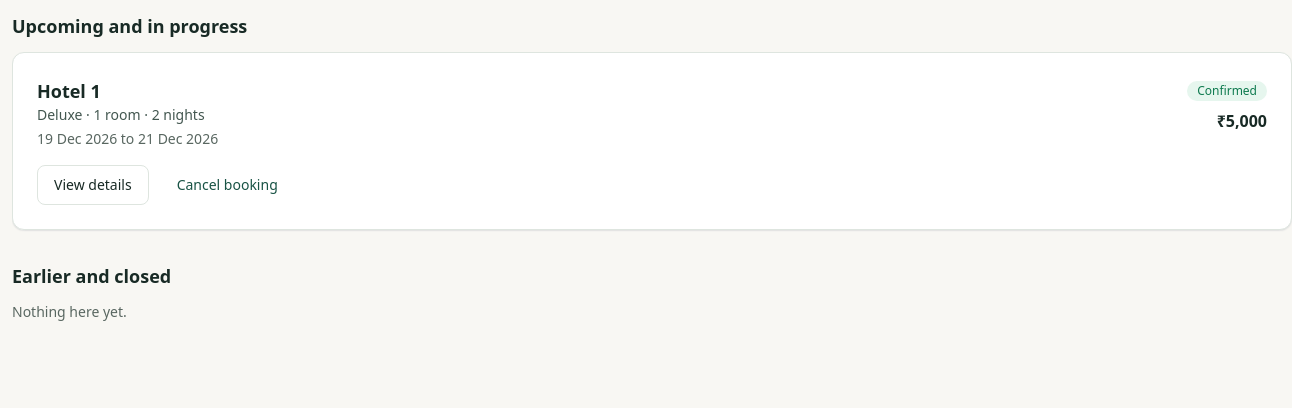
Test: my bookings › cancels, says a refund was requested, and shows the booking as cancelled
Click the button "Cancel booking": (227, 185) [161,165,294,205]
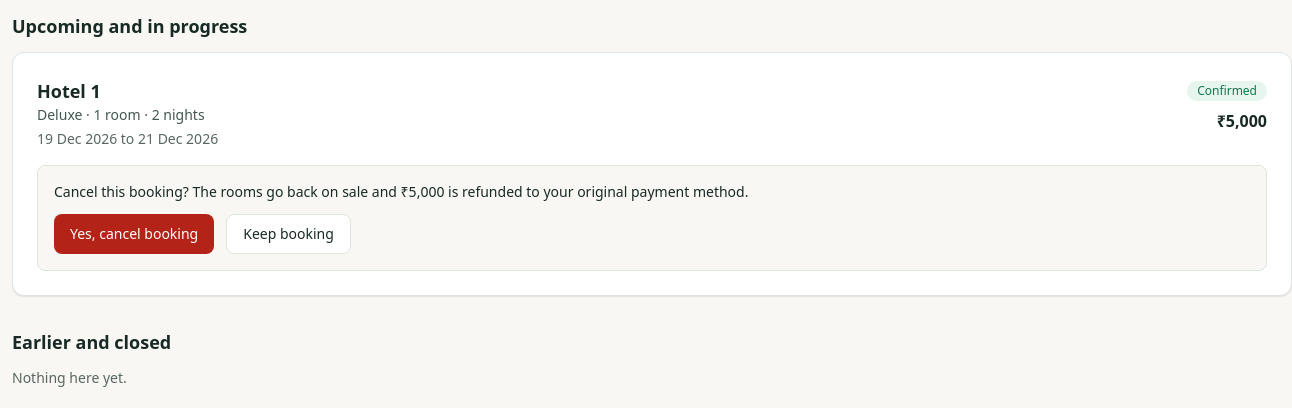
Click the button "Yes, cancel booking": (134, 234) [54,214,214,254]
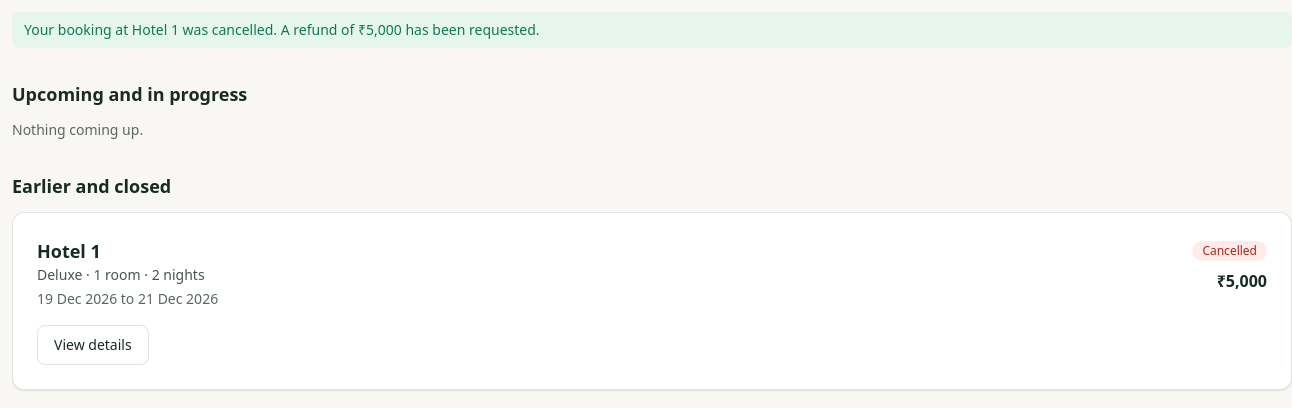
Now the text "Your booking at Hotel 1 was cancelled. A refund of ₹5,000 has been requested." is shown, box [12,12,1291,48]
Now the text "Cancelled" is shown, box [1192,241,1267,261]
Now the button "cancel booking" is gone
